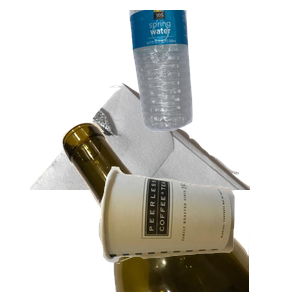glass: (60, 120, 300, 300)
paper: (10, 10, 250, 190)
plastic: (127, 10, 300, 134)
trash: (95, 164, 300, 300)
